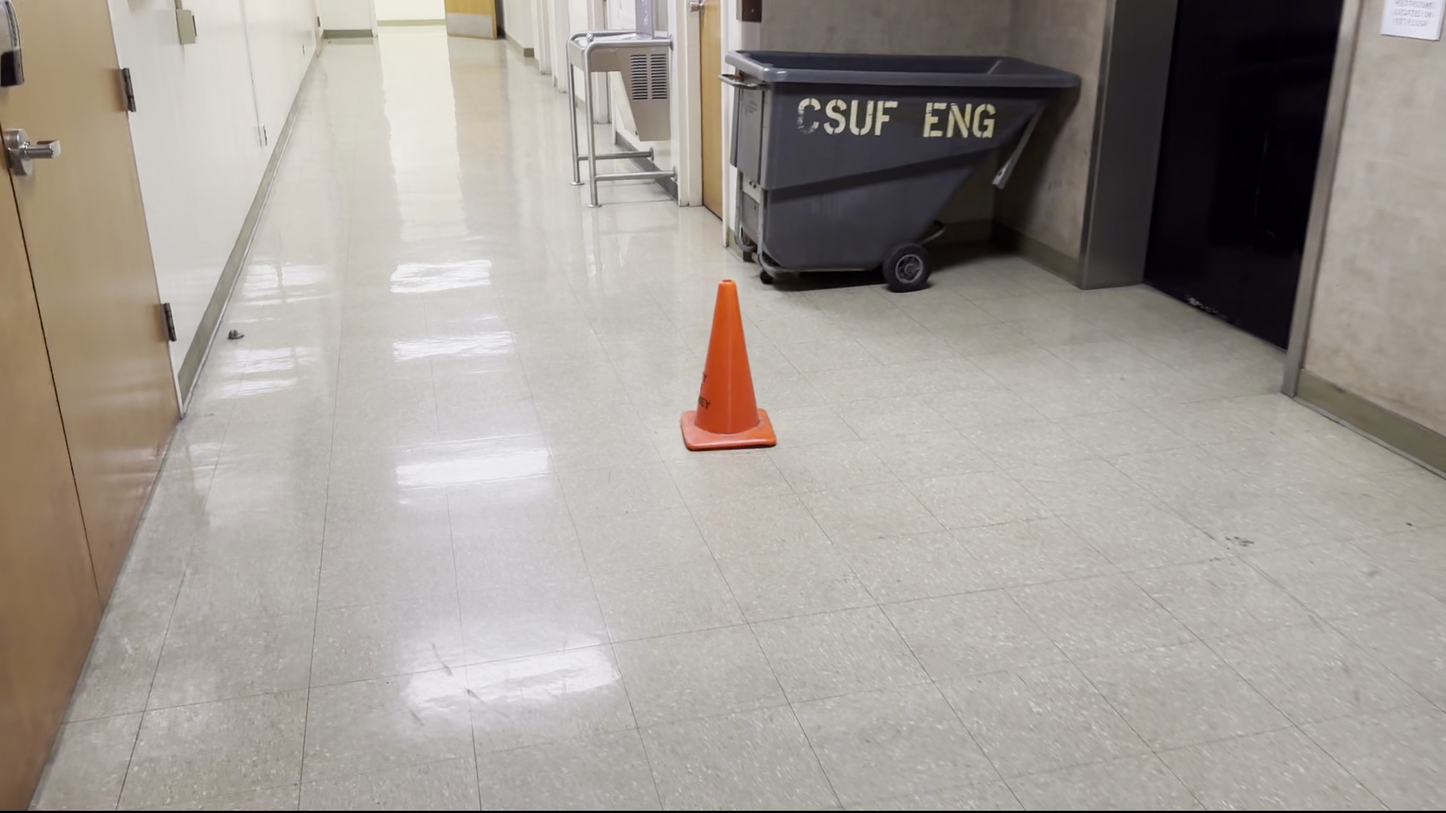traffic_cone: (679, 278, 777, 451)
